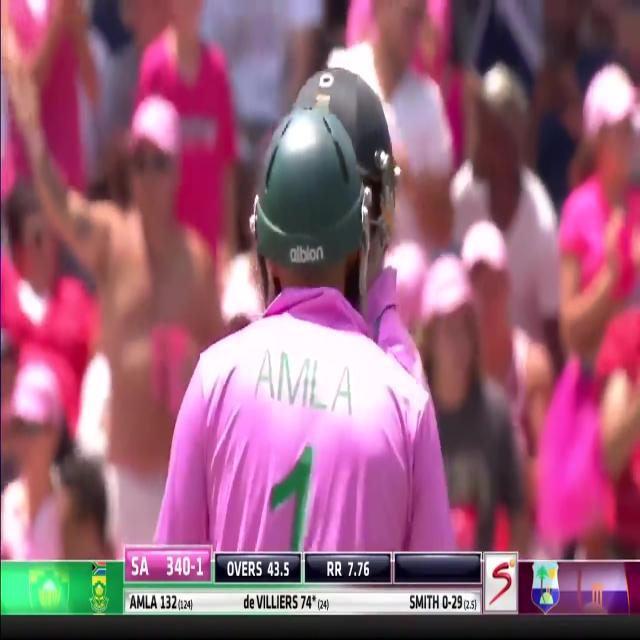Ball: (159, 88, 460, 556)
